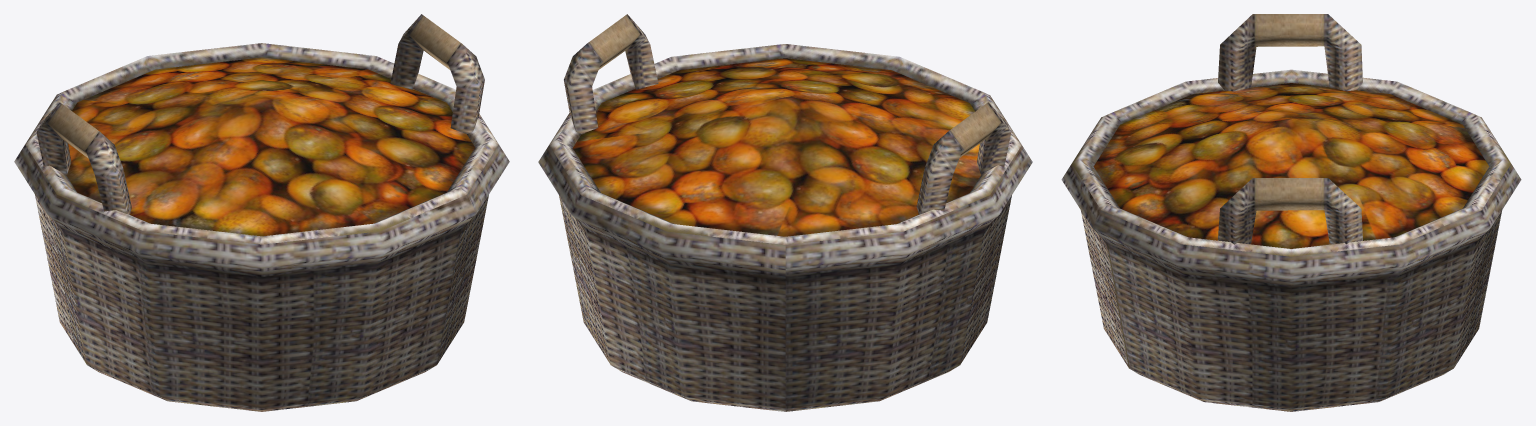
Rendered from basket01_fruits.FBX.
The picture shows the model from 3 angles, left to right: view 1: azimuth 30°, elevation 25°; view 2: azimuth 150°, elevation 25°; view 3: azimuth 270°, elevation 25°; orthographic projection. The views are drawn at different scales.
Parts seen in each view (by area): view 1: basket04; view 2: basket04; view 3: basket04.
Part boxes in pixels (box(x1,y1,x2,y2)): basket04: box(14, 14, 509, 411); basket04: box(538, 14, 1032, 411); basket04: box(1061, 14, 1521, 411).
Size of the model in its own units: 29.43 by 29.43 by 17.03.
Materials: 1 (1 with a texture image).
